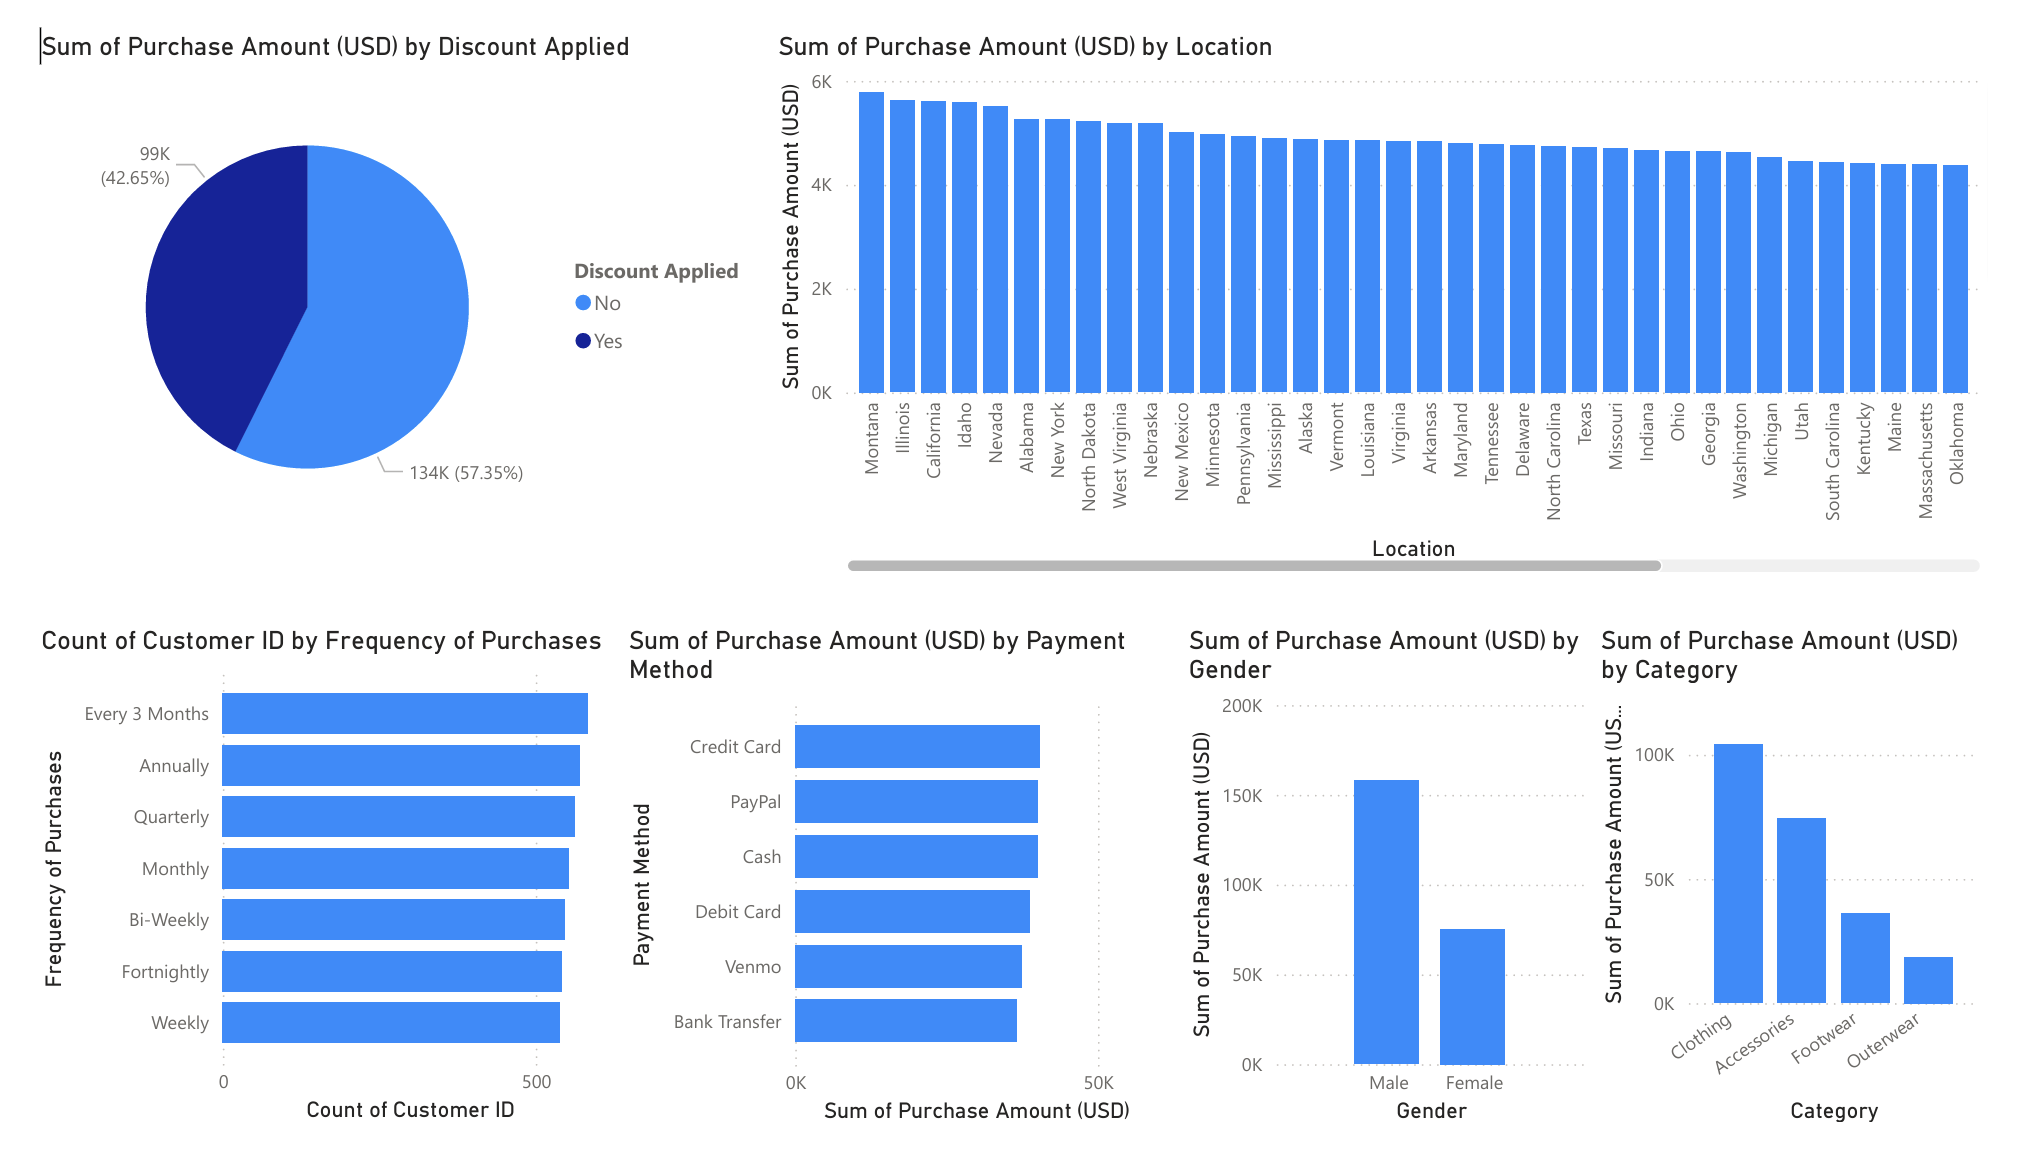

This screenshot's page, from the dashboard's own definition file:
{"tool":"powerbi","page":{"name":"Page 1","canvas":[1280,720],"ordinal":0},"visuals":[{"type":"columnChart","fields":{"Category":["Sheet1.Location"],"Y":["Sum(Sheet1.Purchase Amount (USD))"]},"box":[482.5,0,797.8,360.5],"z":0},{"type":"clusteredColumnChart","fields":{"Category":["Sheet1.Gender"],"Y":["Sum(Sheet1.Purchase Amount (USD))"]},"box":[751.5,388.7,270.1,331.1],"z":1},{"type":"clusteredColumnChart","fields":{"Category":["Sheet1.Category"],"Y":["Sum(Sheet1.Purchase Amount (USD))"]},"box":[1021.6,388.7,258.8,331.1],"z":2},{"type":"pieChart","fields":{"Category":["Sheet1.Discount Applied"],"Y":["Sum(Sheet1.Purchase Amount (USD))"]},"box":[0,0,482.5,343.5],"z":4},{"type":"barChart","fields":{"Category":["Sheet1.Payment Method"],"Y":["Sum(Sheet1.Purchase Amount (USD))"]},"box":[385.4,388.7,366.1,331.1],"z":5},{"type":"clusteredBarChart","fields":{"Category":["Sheet1.Column19"],"Y":["CountNonNull(Sheet1.Customer ID)"]},"box":[0,388.7,385.4,331.1],"z":6}]}

Visuals, with their boxes in screenshot pixels (x1, y1, x2, y2), scaled from the page's 1280x720 canvas onto the 2022x1166 screenshot:
columnChart - Sheet1.Location x Sum(Sheet1.Purchase Amount (USD)): [left=762, top=0, right=2021, bottom=584]
clusteredColumnChart - Sheet1.Gender x Sum(Sheet1.Purchase Amount (USD)): [left=1187, top=629, right=1614, bottom=1165]
clusteredColumnChart - Sheet1.Category x Sum(Sheet1.Purchase Amount (USD)): [left=1614, top=629, right=2021, bottom=1165]
pieChart - Sheet1.Discount Applied x Sum(Sheet1.Purchase Amount (USD)): [left=0, top=0, right=762, bottom=556]
barChart - Sheet1.Payment Method x Sum(Sheet1.Purchase Amount (USD)): [left=609, top=629, right=1187, bottom=1165]
clusteredBarChart - Sheet1.Column19 x CountNonNull(Sheet1.Customer ID): [left=0, top=629, right=609, bottom=1165]
